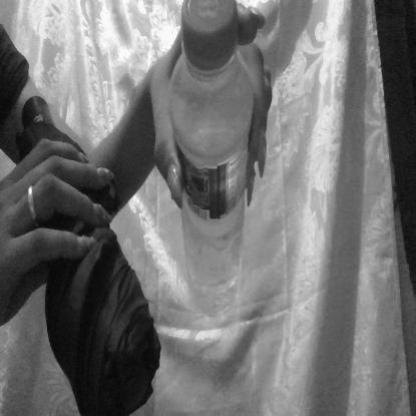Plastic Bottle: (176, 0, 252, 310)
